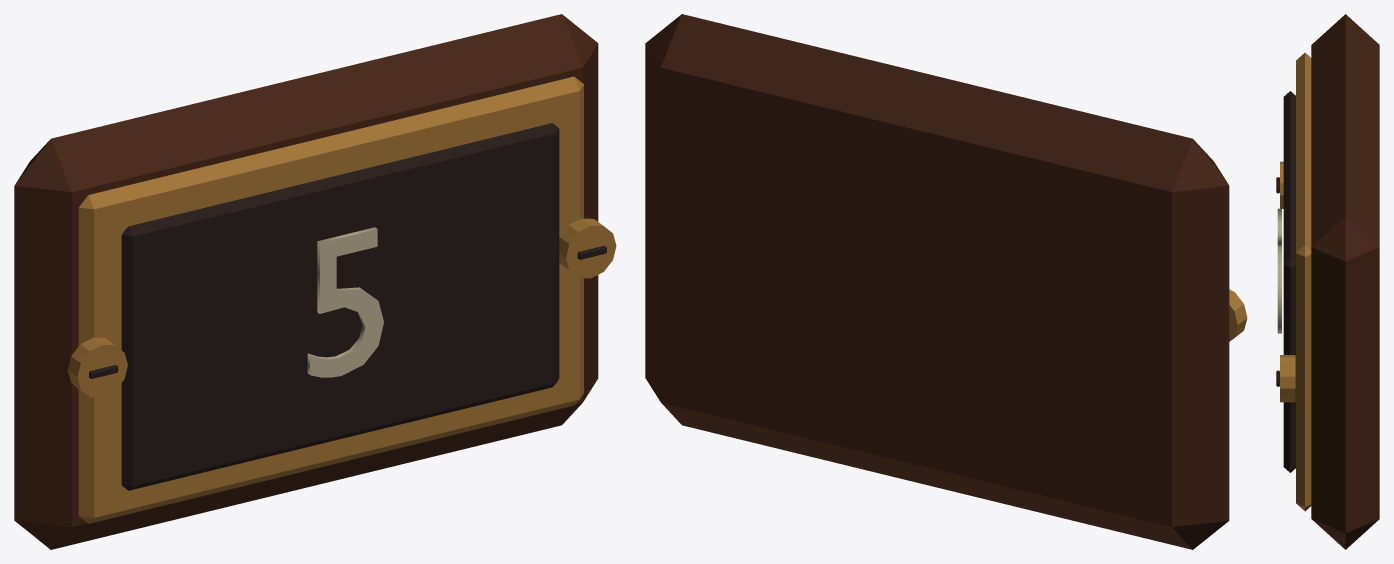
Rendered from RoomPlaque_05.glb.
3 views of the same model, side by side, from view 1: azimuth 30°, elevation 25°; view 2: azimuth 150°, elevation 25°; view 3: azimuth 270°, elevation 25° (orthographic). The views are drawn at different scales.
Visible parts, largest first — view 1: DarkEnamel.004, OakPlaque.004, BrassInset.004, RoomNumber.004, BrassScrew.010, BrassScrew.011; view 2: OakPlaque.004; view 3: OakPlaque.004, BrassInset.004, DarkEnamel.004, BrassScrew.011, RoomNumber.004, BrassScrew.010.
Boxes of the visible parts, <box> form: DarkEnamel.004: <box>121,123,559,490</box>; OakPlaque.004: <box>14,14,598,549</box>; BrassInset.004: <box>78,76,583,523</box>; RoomNumber.004: <box>307,227,383,377</box>; BrassScrew.010: <box>67,337,127,397</box>; BrassScrew.011: <box>559,218,616,278</box>; OakPlaque.004: <box>645,14,1229,549</box>; OakPlaque.004: <box>1311,14,1379,549</box>; BrassInset.004: <box>1296,52,1311,511</box>; DarkEnamel.004: <box>1283,91,1295,472</box>; BrassScrew.011: <box>1280,355,1295,402</box>; RoomNumber.004: <box>1277,208,1281,333</box>; BrassScrew.010: <box>1280,161,1283,208</box>.
Size of the model in its own units: 1.04 by 0.7 by 0.197.
